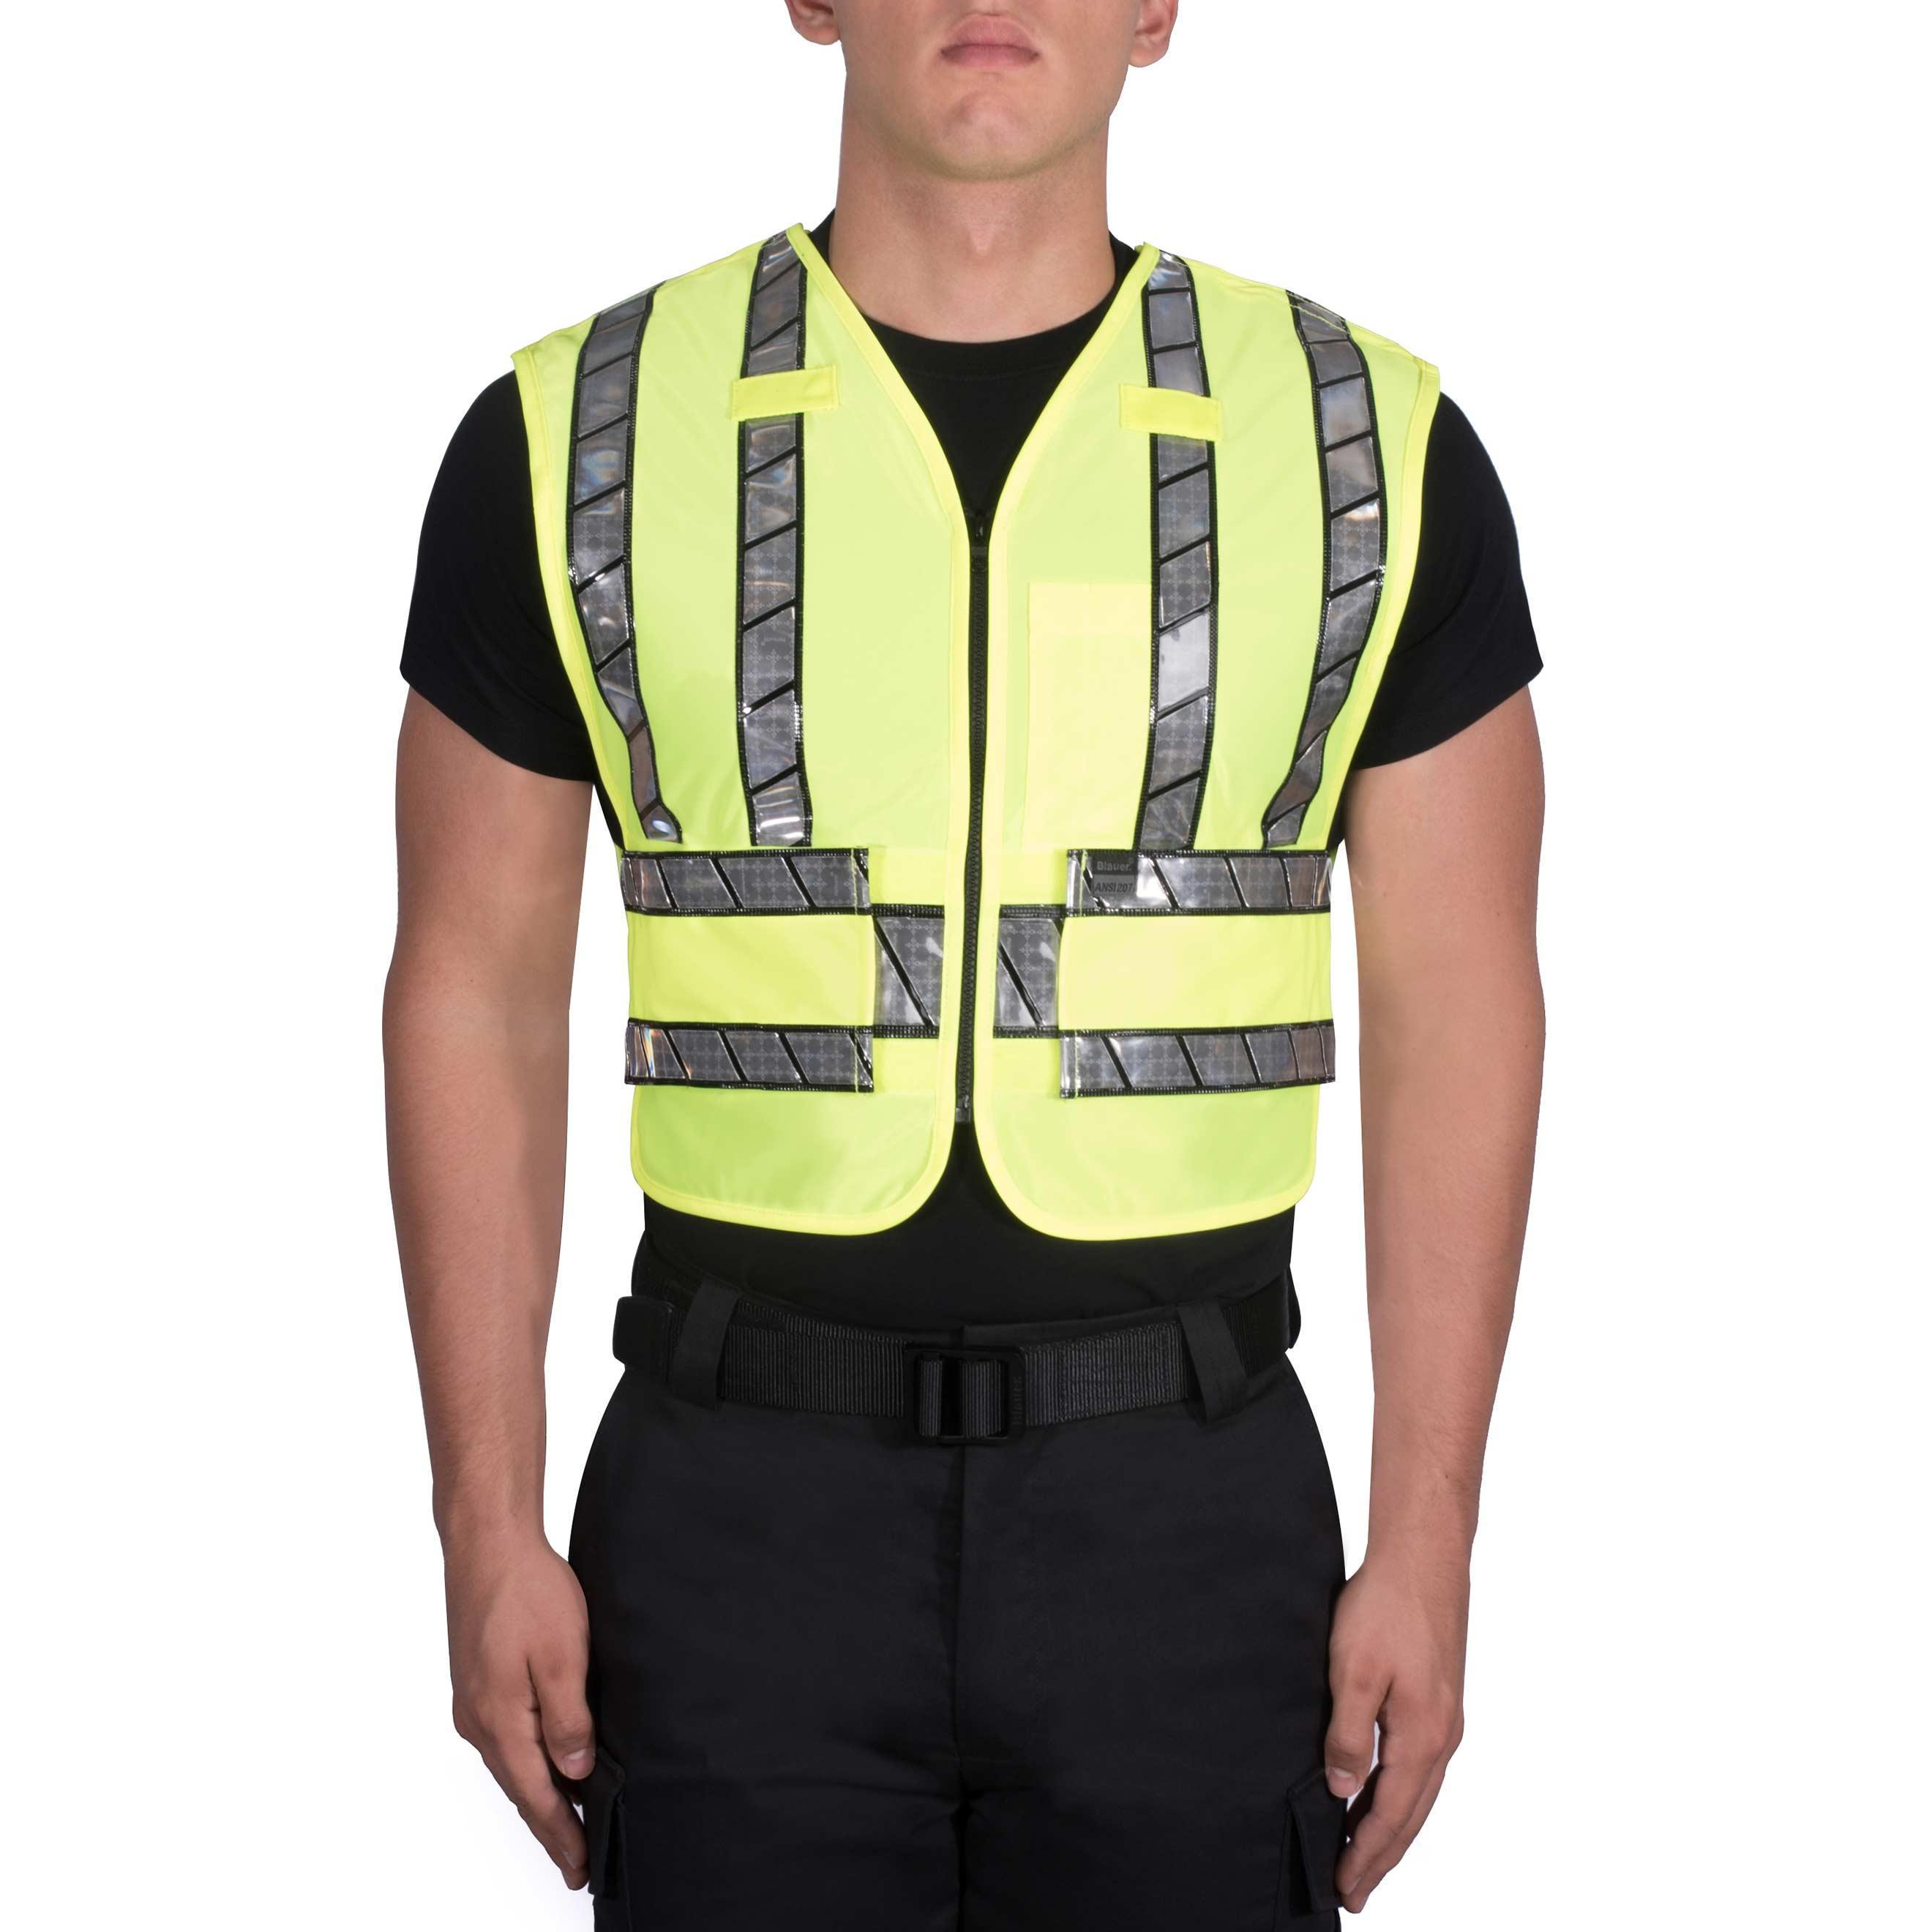vest: (513, 230, 1442, 1235)
